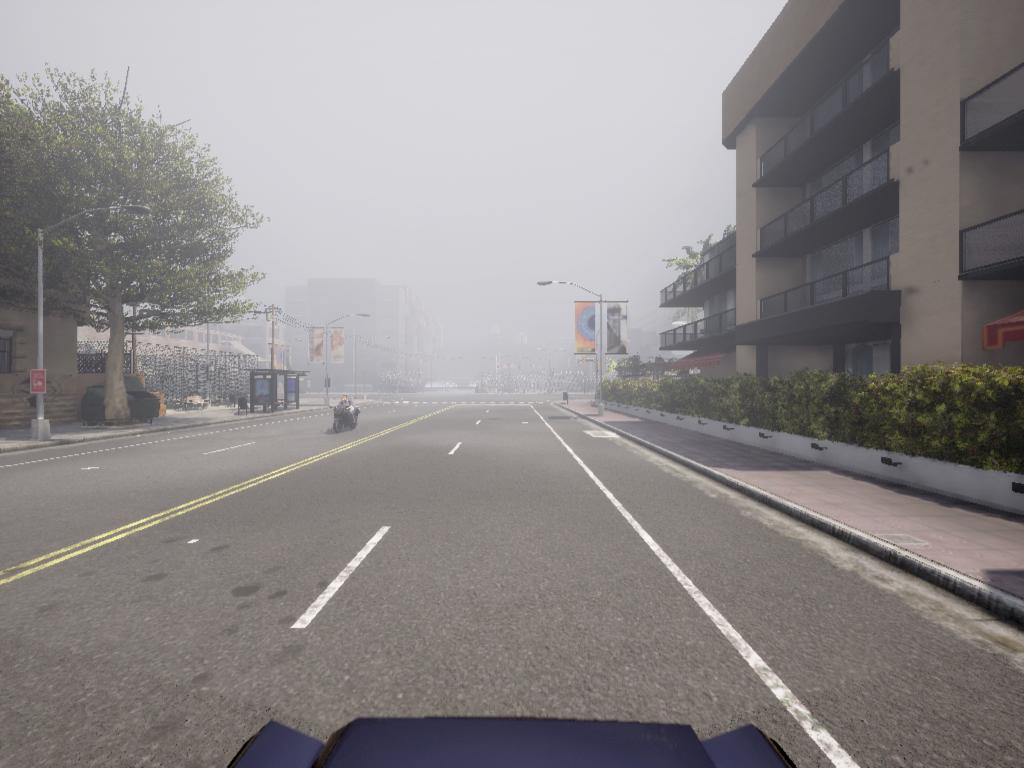traffic_light: (326, 378, 331, 391)
